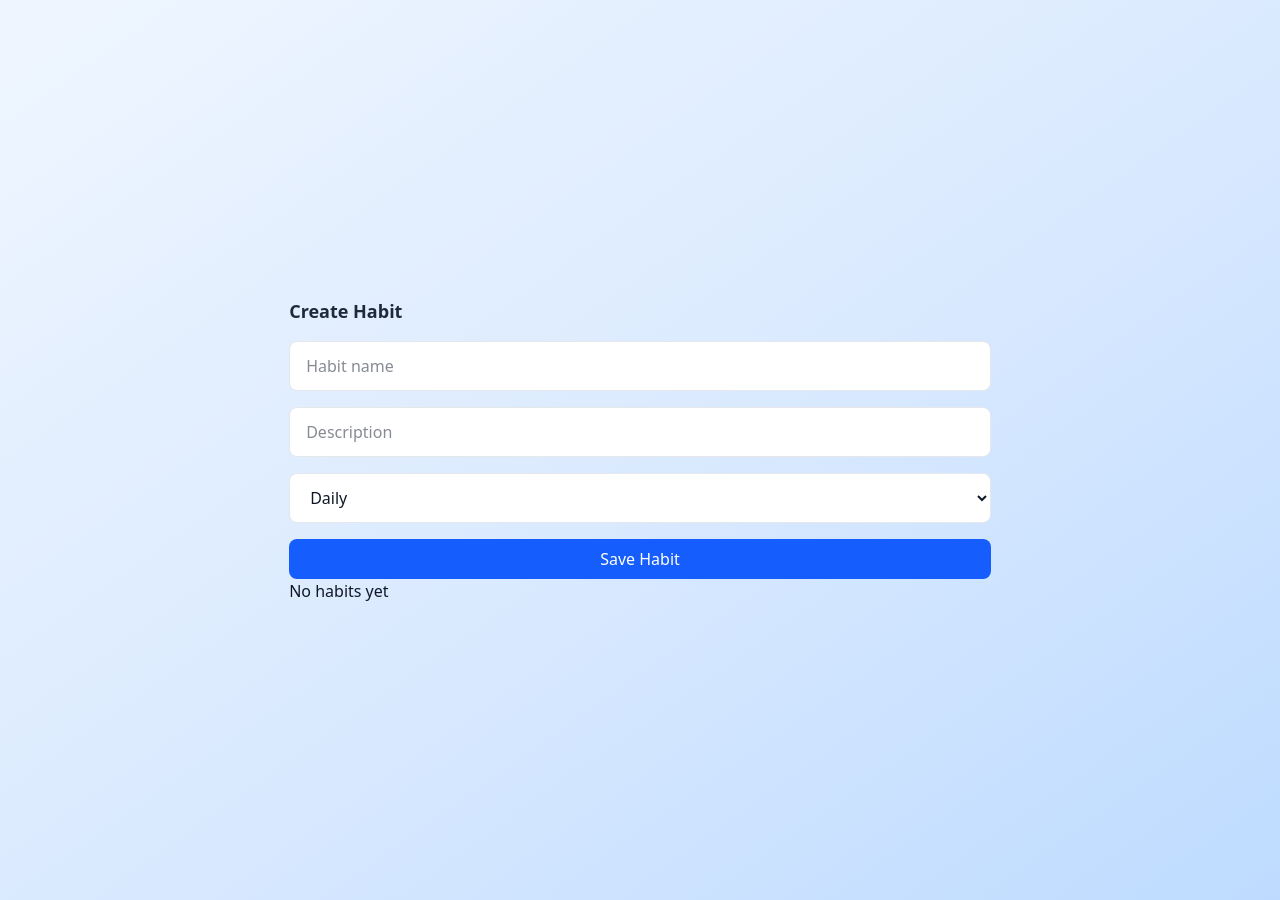
Test case: habit form › creates a new habit and renders it in the list
In the field with test id "habit-name-input": (640, 366) [289,341,991,391], type "Read Book"
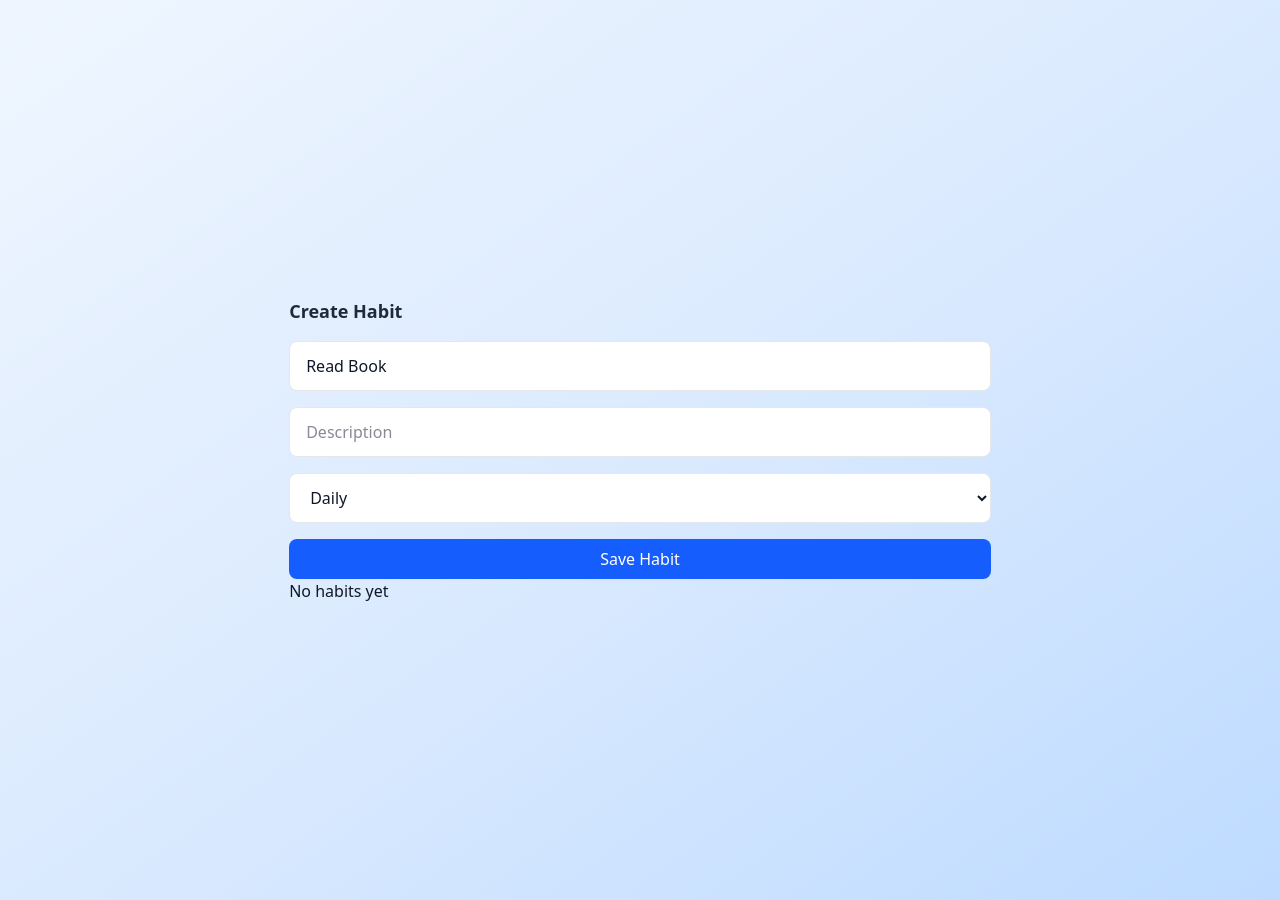
In the field with test id "habit-description-input": (640, 432) [289,407,991,457], type "Read daily"
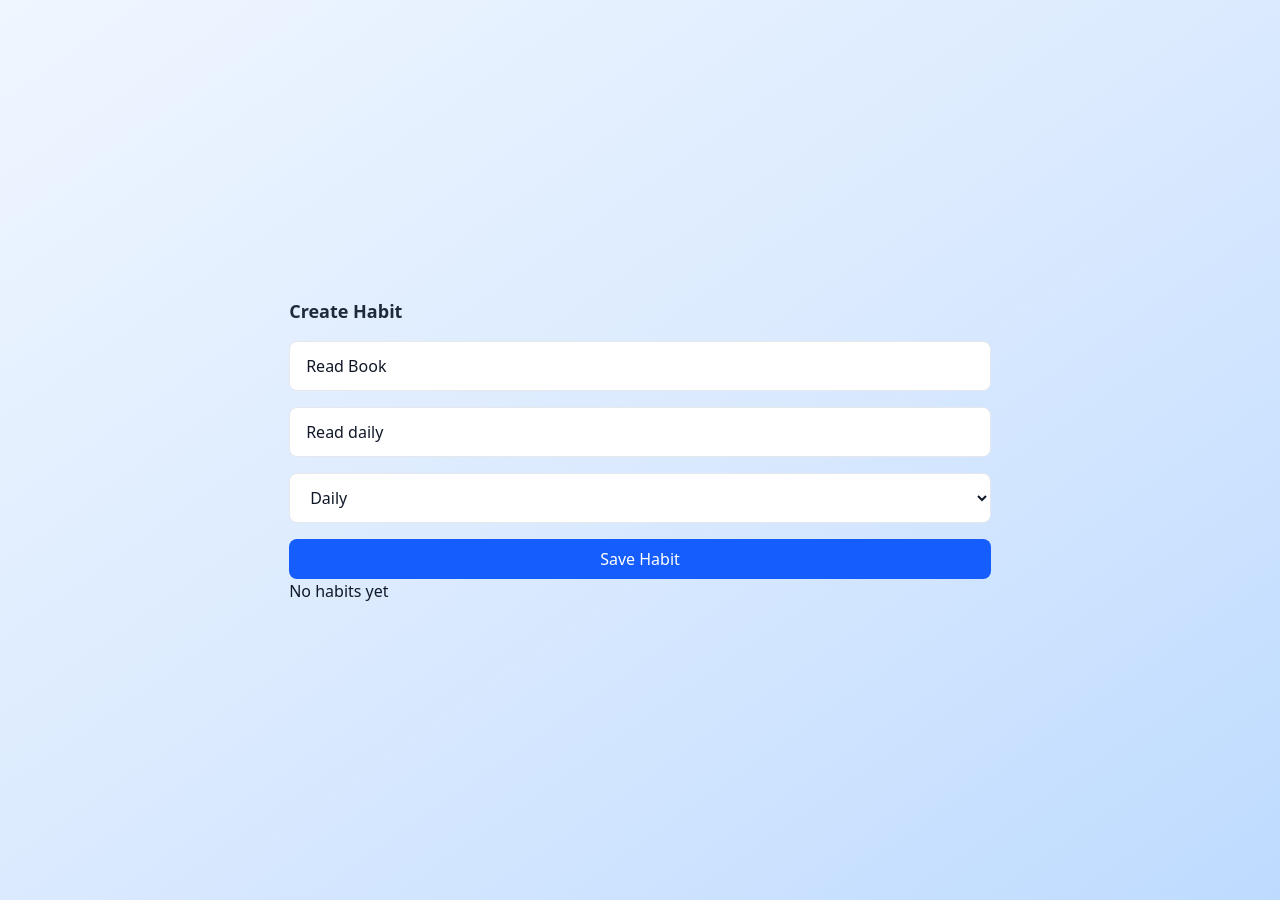
Click the button with test id "habit-save-button": (640, 559) [289,539,991,579]
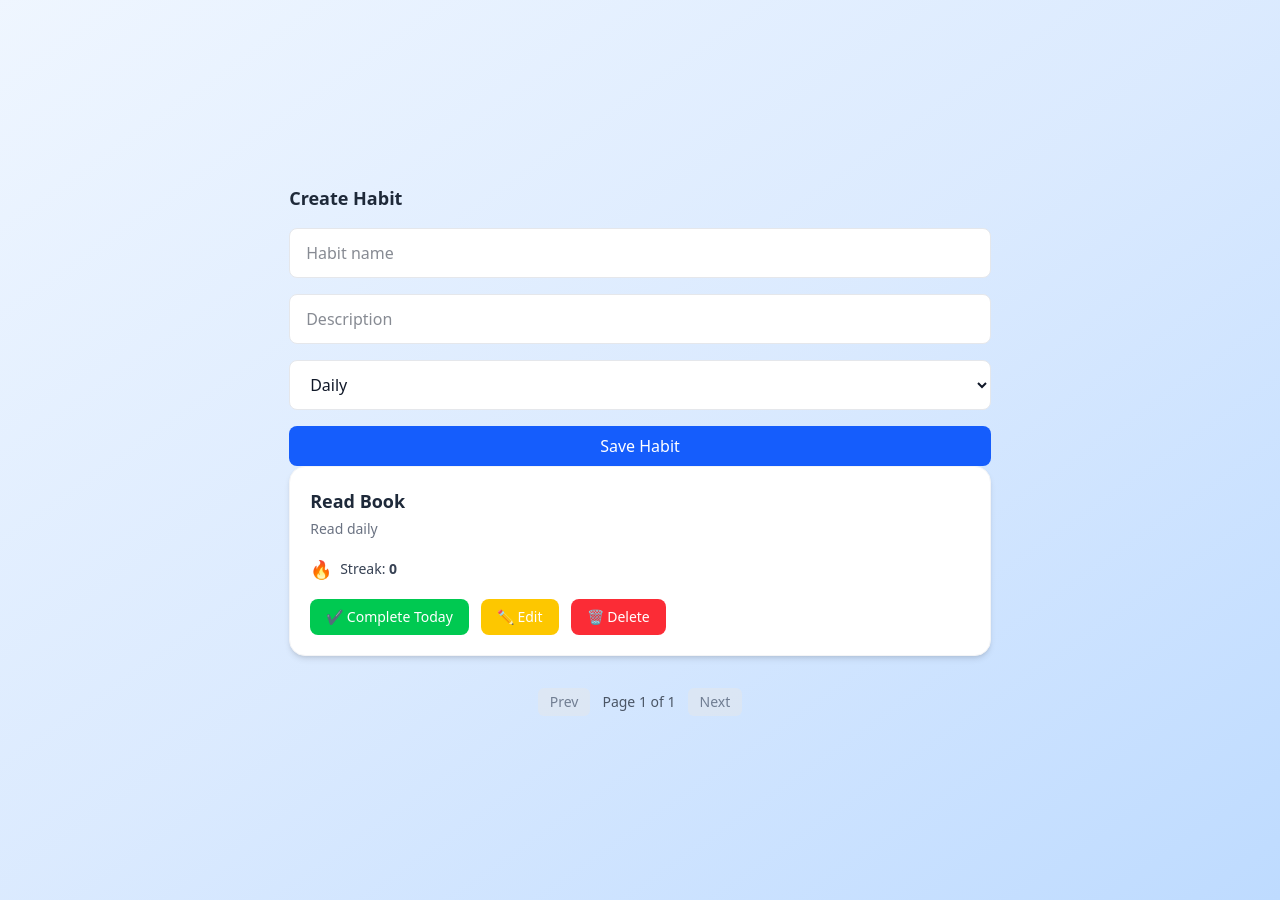
Expected: the heading "Read Book" is shown, [310,489,405,513]
